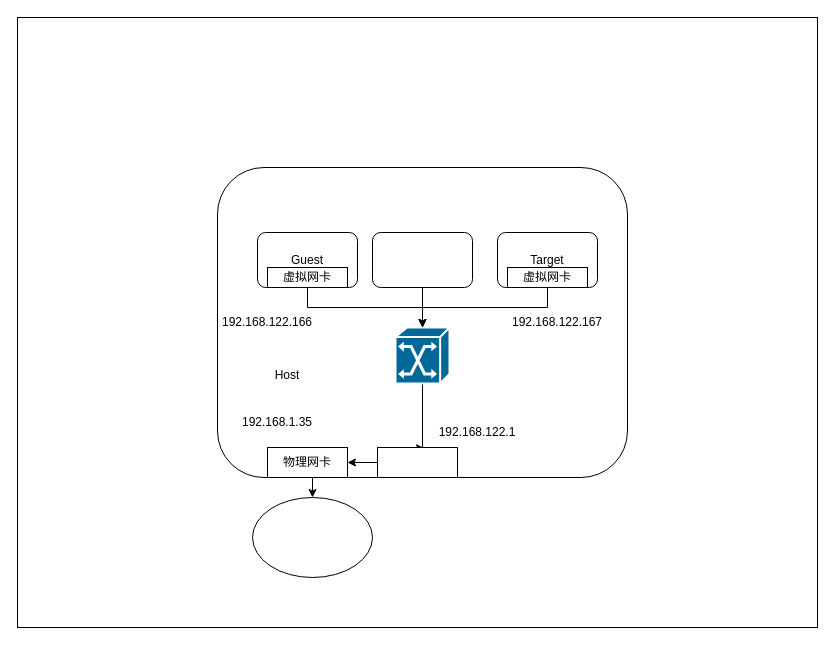
Image size: 835x645. Some labels were removed from this diagram. The shapes that lost their labels are listed below. From the top down, each one's centre as x and y in pixels, then its label:
[422,260]: 虚拟的DHCP服务器
[417,462]: 虚拟NAT设备
[312,537]: 外部网络
